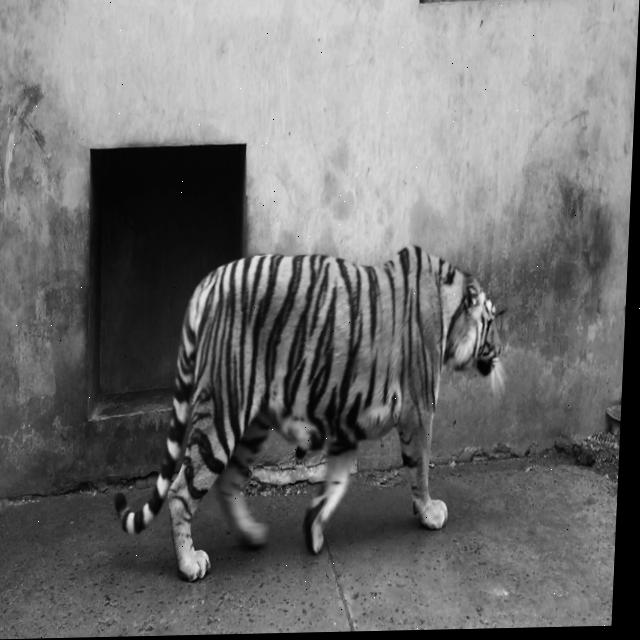Tiger: (110, 240, 513, 584)
